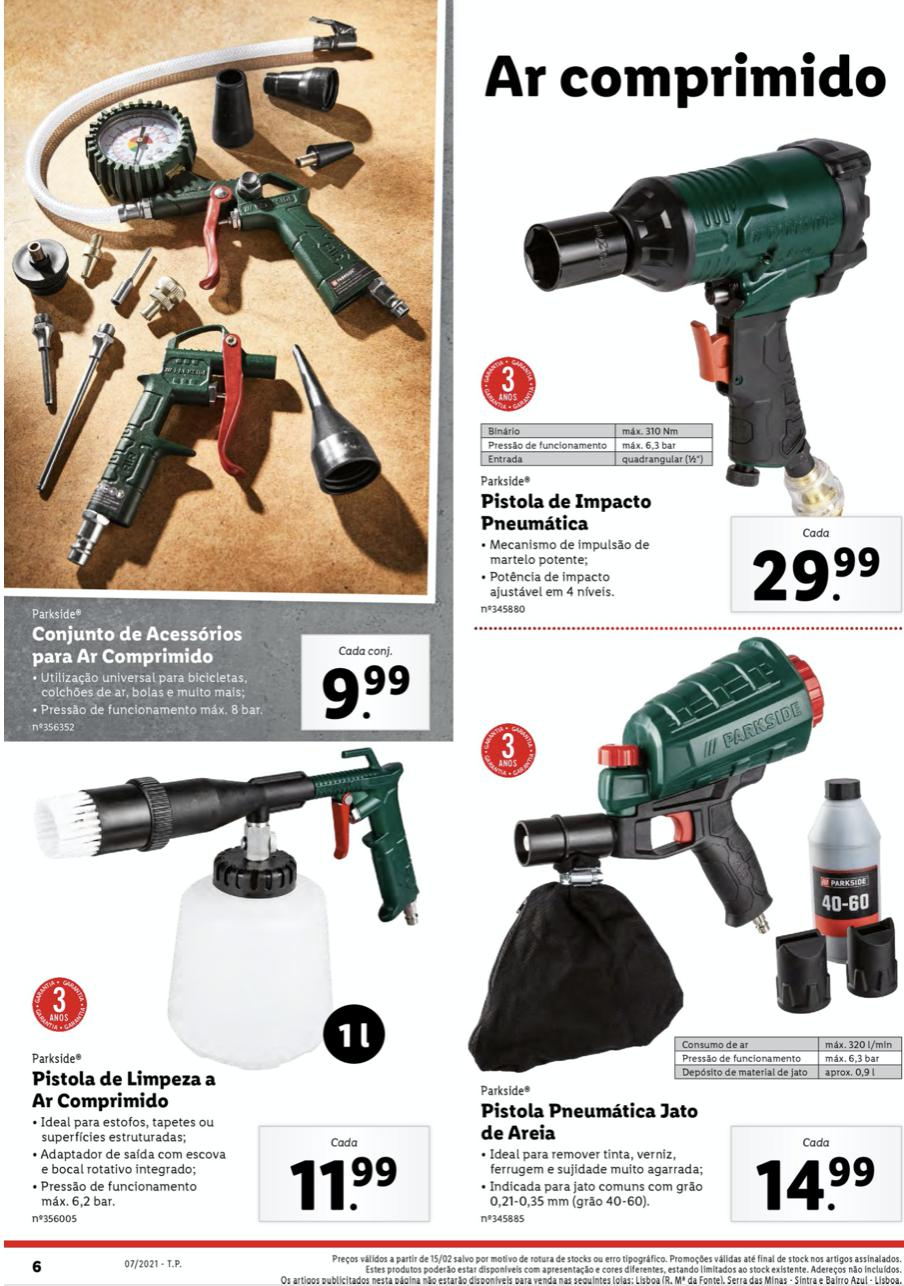name: (28, 621, 255, 671), (474, 1096, 705, 1144), (478, 490, 658, 542), (24, 1067, 229, 1112)
price: (740, 540, 890, 607), (751, 1150, 882, 1218), (291, 1152, 404, 1217), (320, 656, 415, 733)
product: (2, 12, 440, 744), (440, 640, 902, 1229), (477, 117, 902, 623), (2, 755, 436, 1231)
